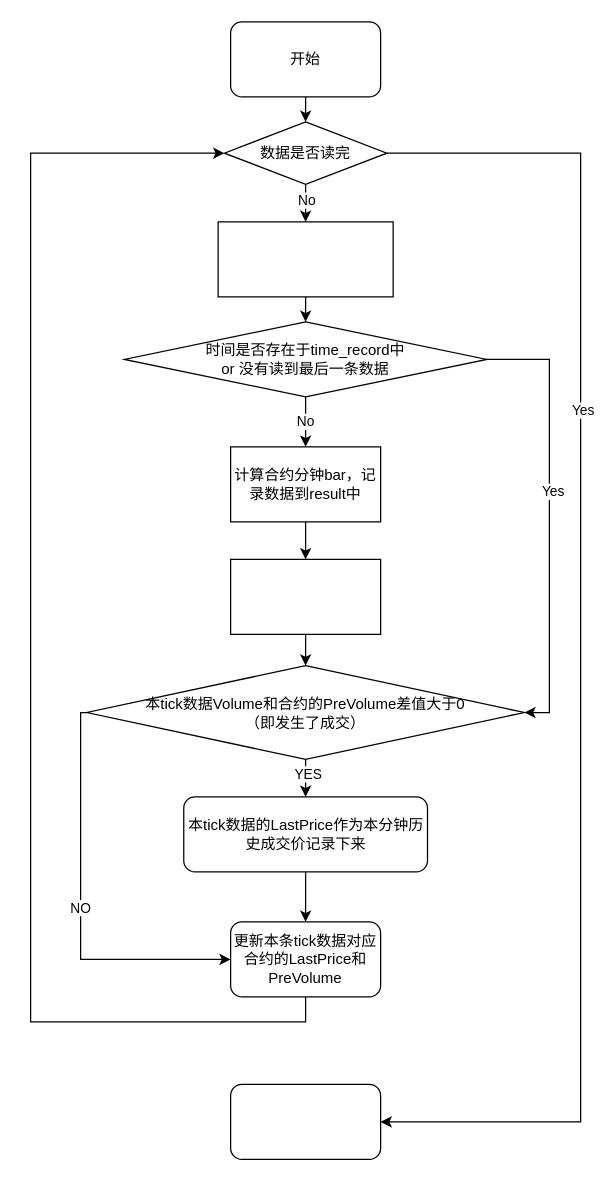
This 615x1181 diagram has some shape labels left out. The shapes that lost their labels are listed below. From the top down, each one's centre as x and y in pixels, then its label:
At [305,259]: "按序读取到一条tick数据，秒位归0".
At [305,596]: "清空暂存的分钟数据".
At [305,1121]: "结束".
